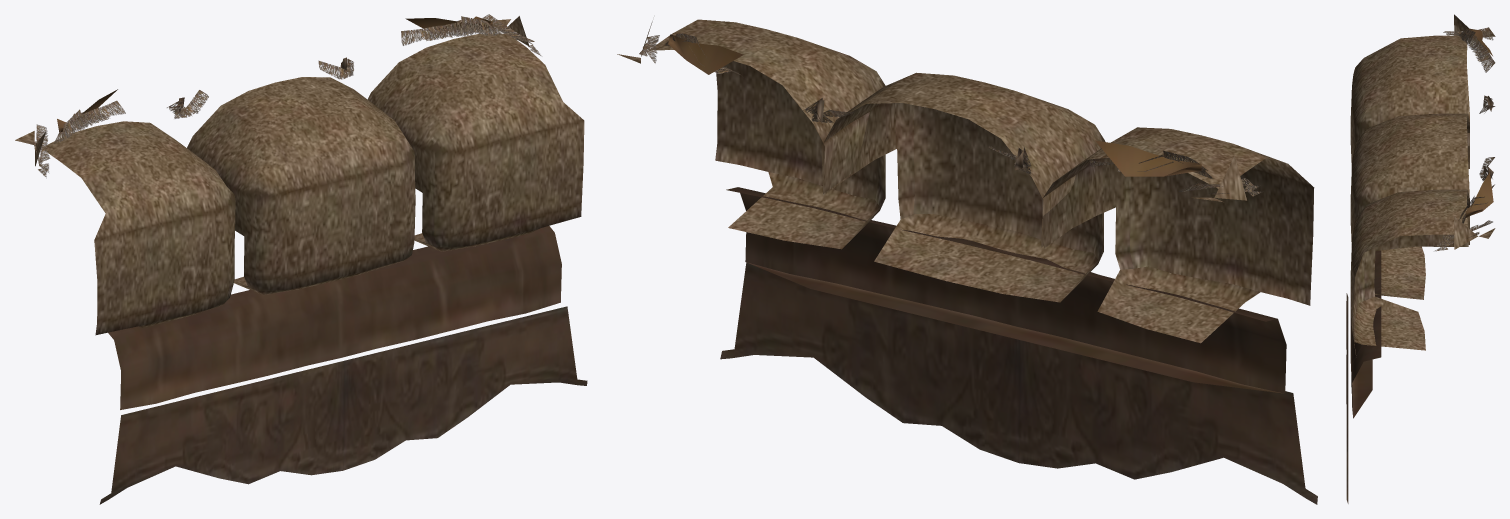
Rendered from sofa_seat.glb.
The picture shows the model from 3 angles, left to right: view 1: azimuth 30°, elevation 25°; view 2: azimuth 150°, elevation 25°; view 3: azimuth 270°, elevation 25°; orthographic projection. The views are drawn at different scales.
Visible parts, largest first — view 1: sofa_03.002; view 2: sofa_03.002; view 3: sofa_03.002.
Boxes of the visible parts, x1=… form: sofa_03.002: x1=15, y1=14, x2=587, y2=504; sofa_03.002: x1=617, y1=19, x2=1317, y2=504; sofa_03.002: x1=1346, y1=14, x2=1495, y2=503.
Bounding box in the file's own units: 31.93 × 21.97 × 9.53.
2 materials, 2 textured.
